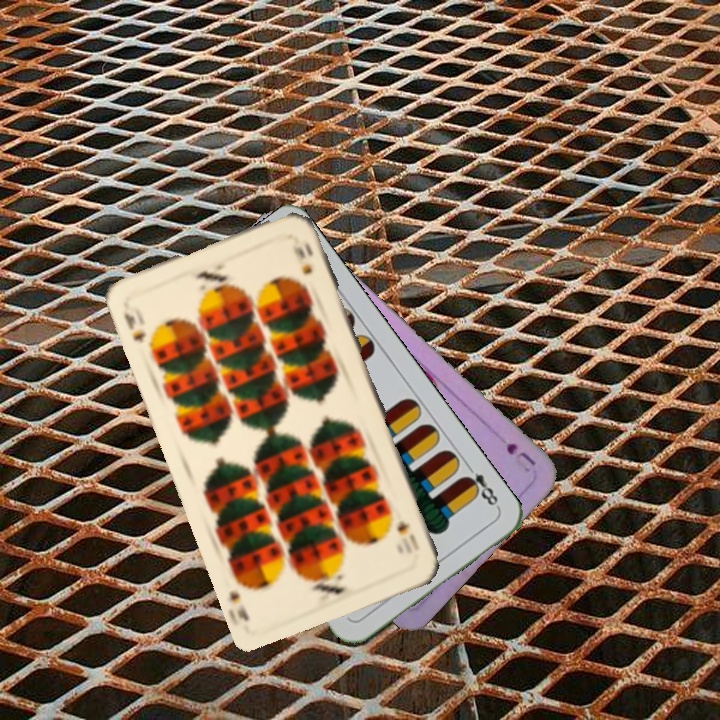E8: (458, 460, 502, 512)
S10: (120, 308, 157, 352), (394, 516, 422, 553)
SU: (502, 439, 539, 475)
